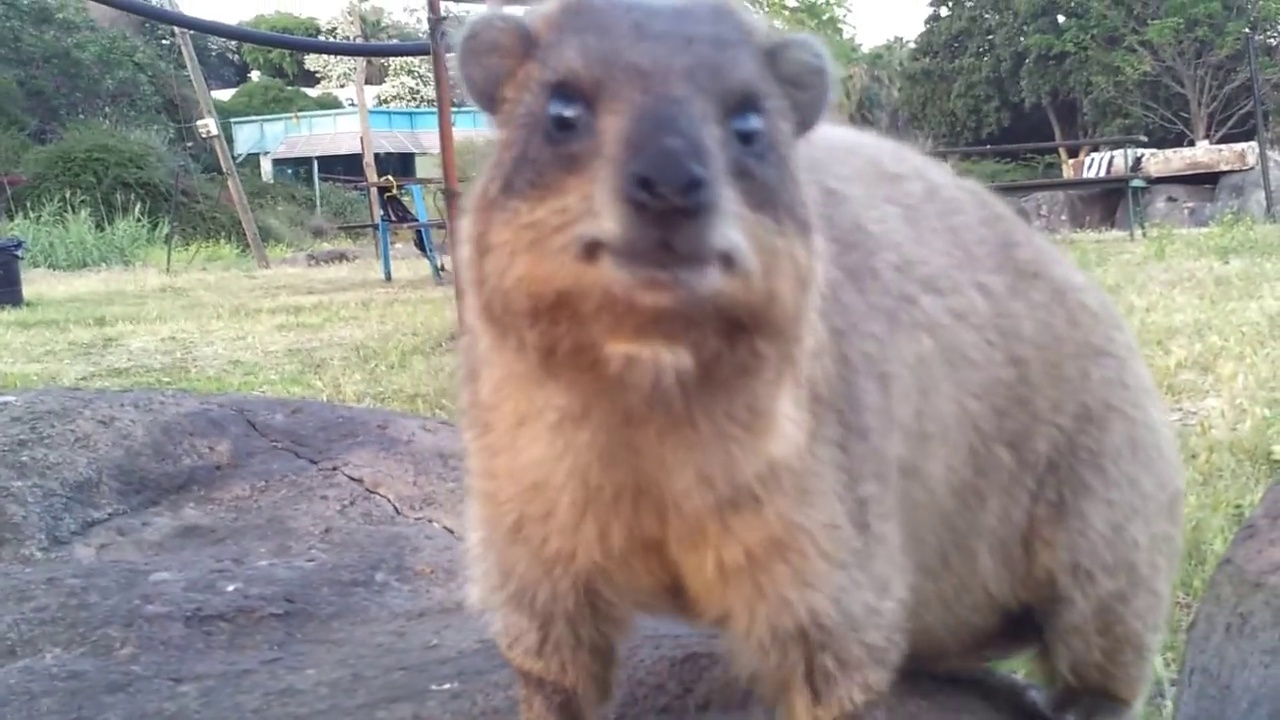Rock Hyrex: (451, 1, 1185, 720)
